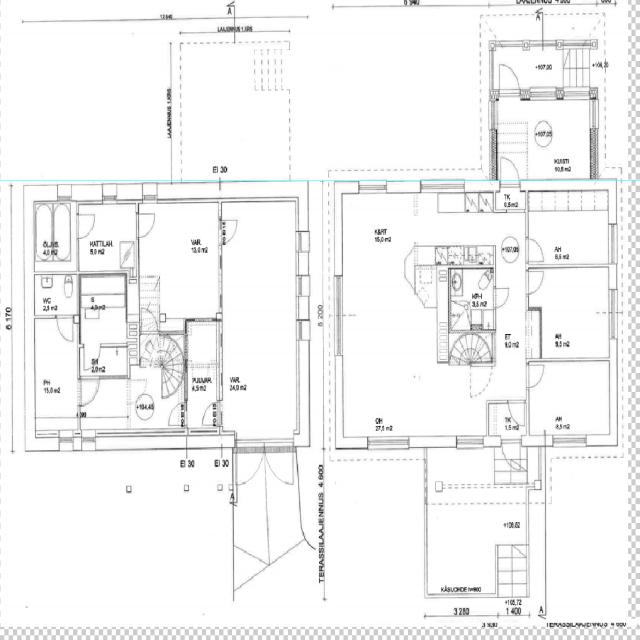door: (192, 142, 218, 201), (264, 438, 292, 488), (237, 438, 264, 488), (499, 56, 520, 100), (501, 436, 521, 479), (500, 150, 519, 191), (81, 375, 99, 405), (136, 213, 157, 238), (76, 214, 96, 239), (218, 220, 238, 245), (202, 400, 222, 424), (142, 306, 158, 336), (76, 382, 95, 406), (525, 238, 544, 262), (84, 343, 100, 371), (168, 404, 188, 426), (526, 365, 545, 388), (525, 272, 544, 295), (508, 400, 524, 427), (56, 315, 72, 341), (494, 288, 509, 308)
